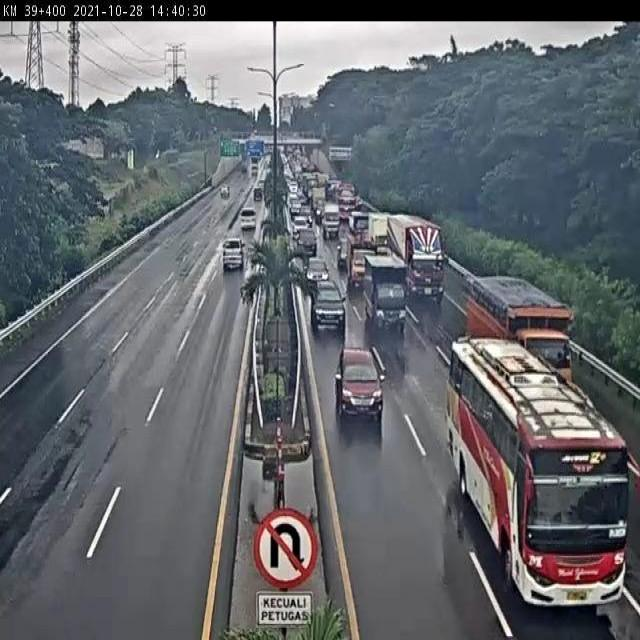bus-l-: (451, 335, 627, 604)
car: (337, 349, 384, 416), (308, 280, 348, 331), (305, 253, 330, 288), (221, 237, 247, 267), (297, 225, 317, 258), (239, 207, 259, 232)
truck-l-: (467, 276, 573, 409), (384, 213, 444, 300)
truck-m-: (365, 256, 409, 331), (348, 240, 380, 293)
